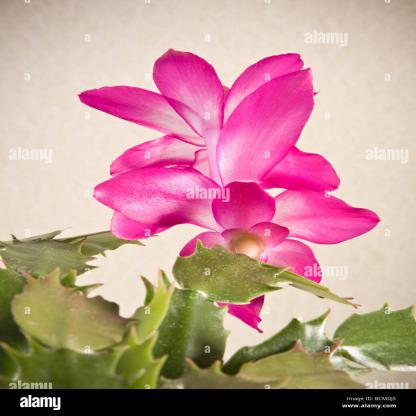Aglonema: (6, 17, 353, 390)
